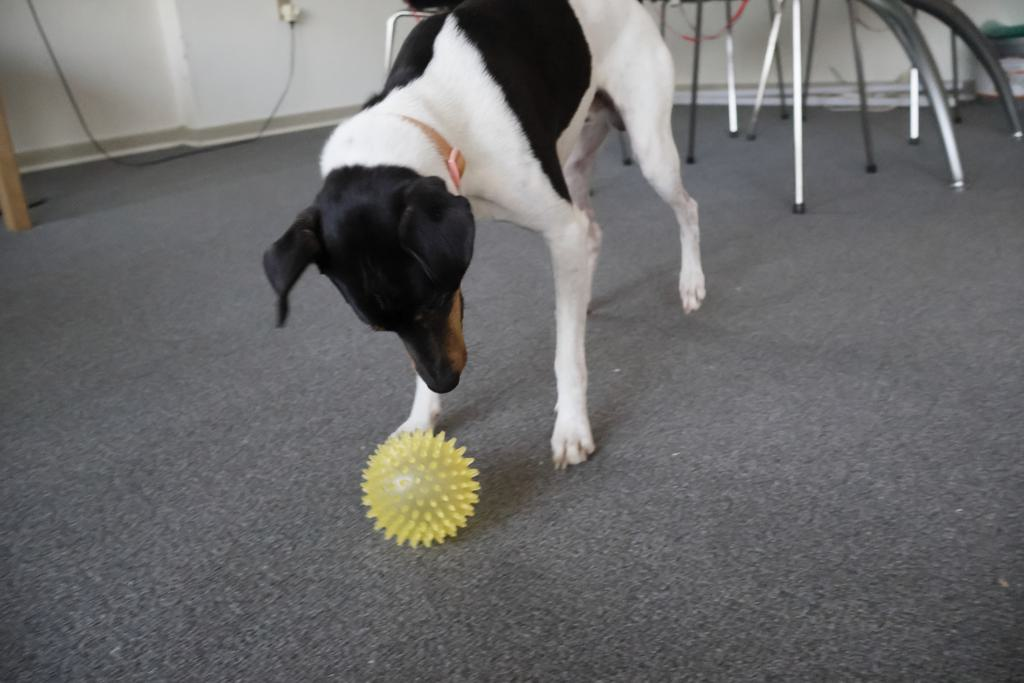Dog: (255, 1, 718, 487)
